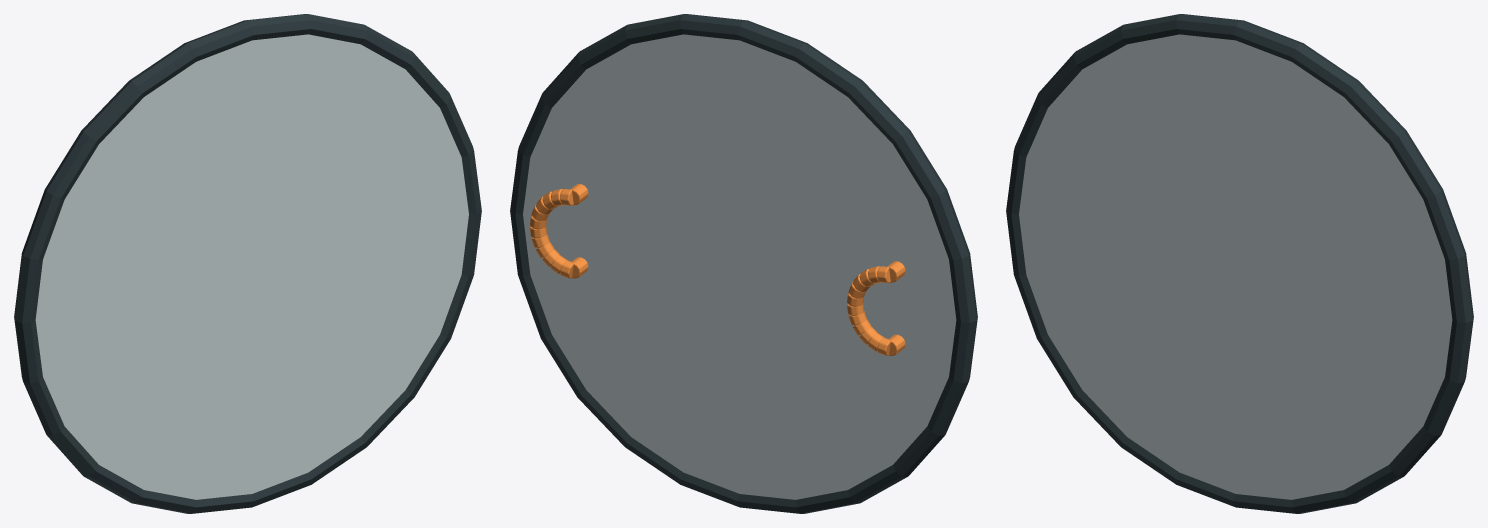
Rendered from P078_bounce_reflector.glb.
3 renders of one model, left to right at view 1: azimuth 30°, elevation 25°; view 2: azimuth 150°, elevation 25°; view 3: azimuth 330°, elevation 25°, orthographic.
Parts seen in each view (by area): view 1: P078_reflector_001, P078_rim_002; view 2: P078_reflector_001, P078_rim_002; view 3: P078_reflector_001, P078_rim_002.
Boxes of the visible parts, <box> form: P078_reflector_001: <box>35,34,468,499</box>; P078_rim_002: <box>14,14,481,513</box>; P078_reflector_001: <box>523,34,956,499</box>; P078_rim_002: <box>510,14,977,513</box>; P078_reflector_001: <box>1019,34,1452,499</box>; P078_rim_002: <box>1006,14,1473,513</box>.
Bounding box in the file's own units: 0.558 × 0.558 × 0.0468.
